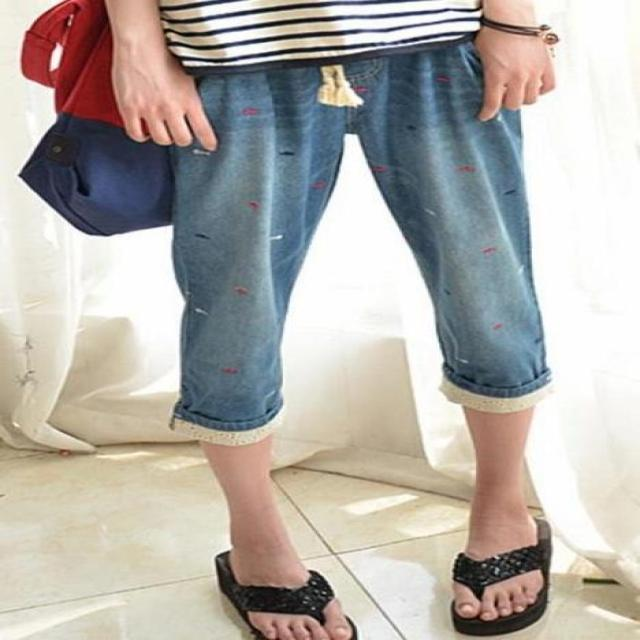trousers: (168, 51, 572, 501)
